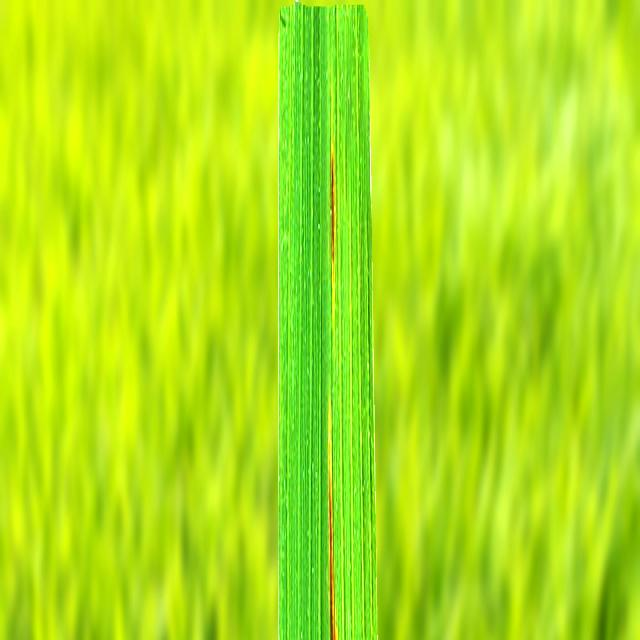NBS: (328, 400, 337, 640), (330, 139, 335, 325), (331, 136, 335, 317)
